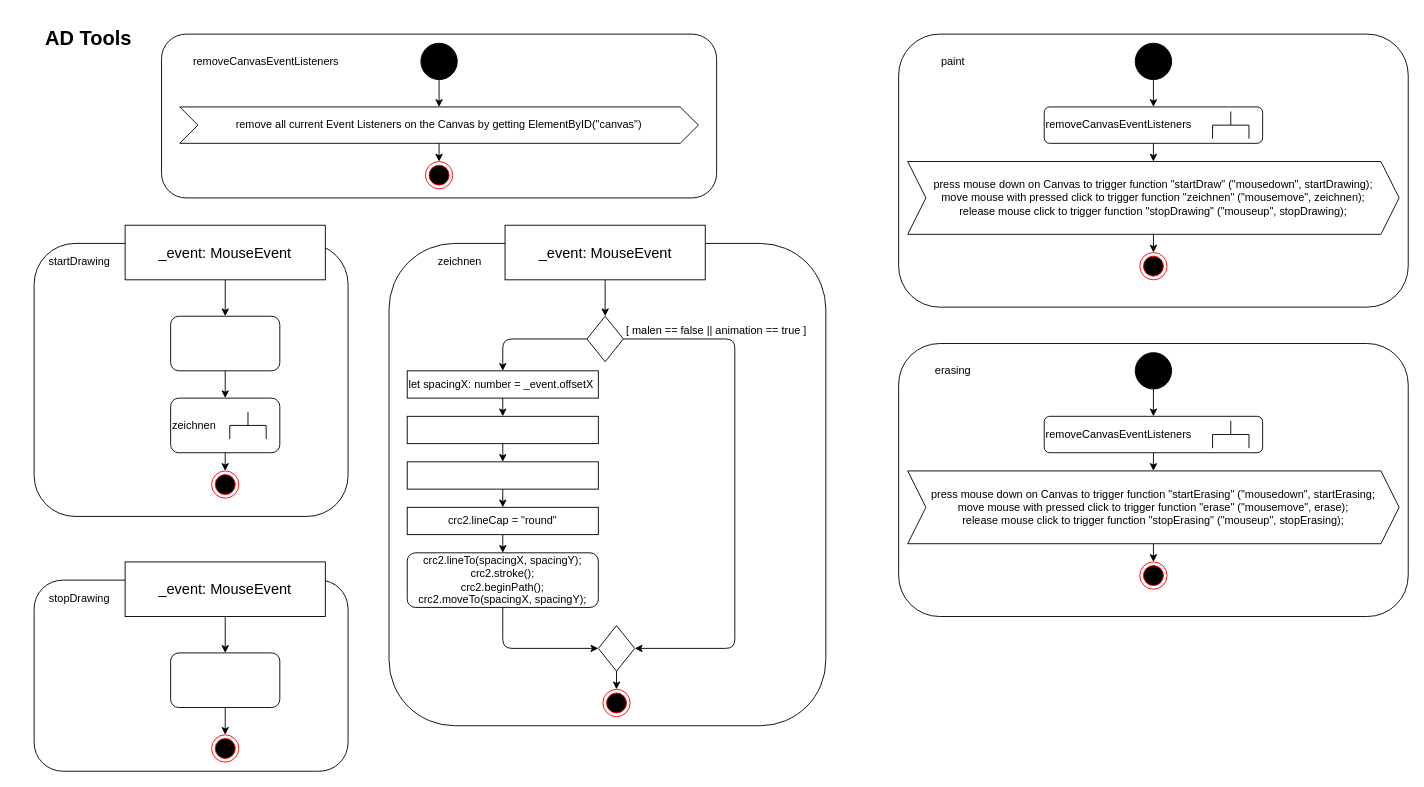
This 1424x787 diagram has some shape labels left out. Each missing label, with the centre of its shape:
crc2.lineWidth = pensilThickness: the point at 502,475
let spacingY: number = _event.offsetY: the point at 502,429
malen = false: the point at 225,680
malen = true: the point at 225,343
